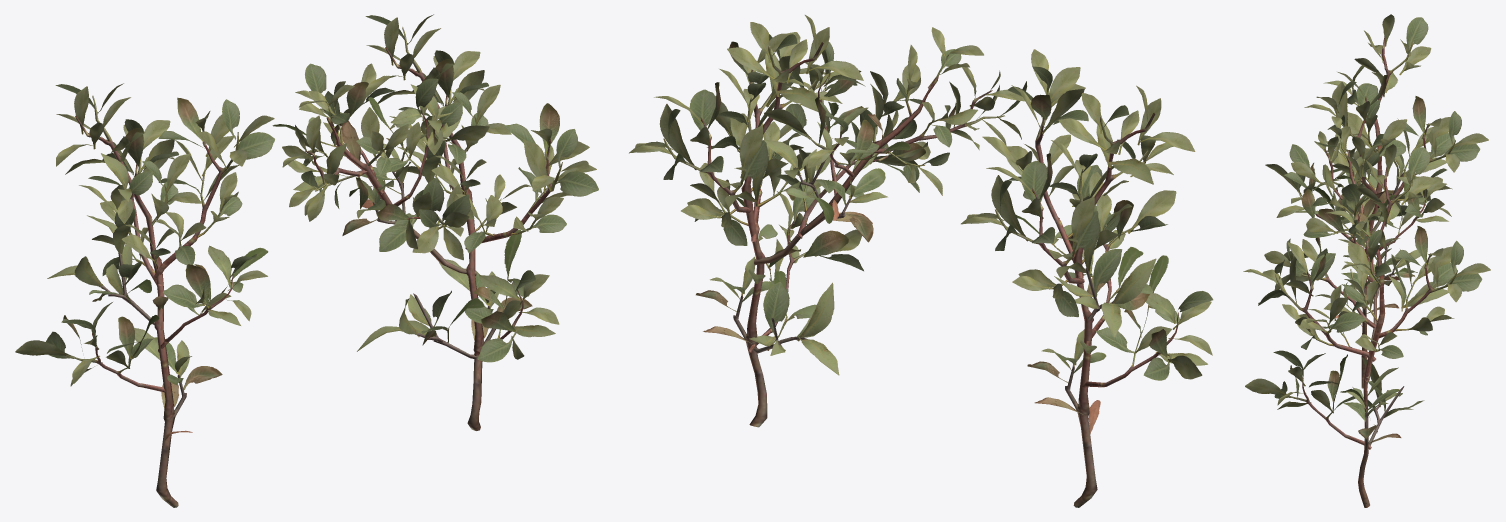
The picture shows the model from 3 angles, left to right: view 1: azimuth 30°, elevation 25°; view 2: azimuth 150°, elevation 25°; view 3: azimuth 270°, elevation 25°; orthographic projection. The views are drawn at different scales.
Visible parts, largest first — view 1: shrub_04__b_lod0; view 2: shrub_04__b_lod0; view 3: shrub_04__b_lod0.
Part boxes in pixels (<box>): shrub_04__b_lod0: <box>15,14,598,507</box>; shrub_04__b_lod0: <box>629,15,1213,507</box>; shrub_04__b_lod0: <box>1243,14,1490,507</box>.
Size of the model in its own units: 0.2921 by 0.2266 by 0.1476.
1 material, 1 textured.
